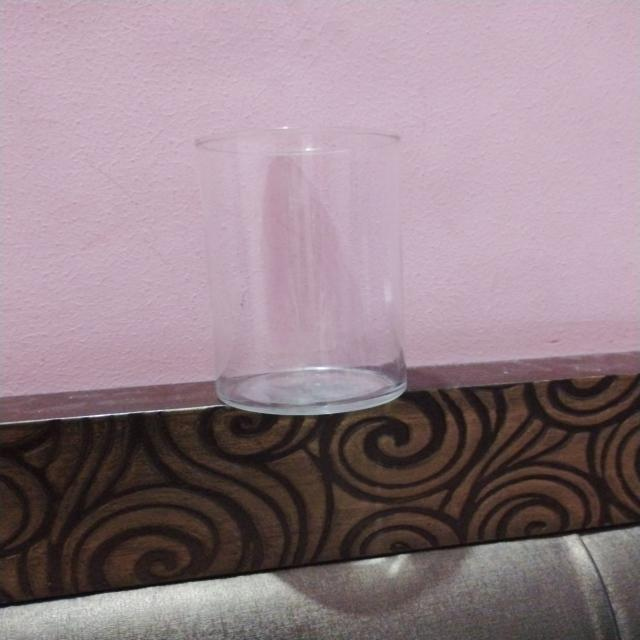Glass: (192, 122, 421, 418)
